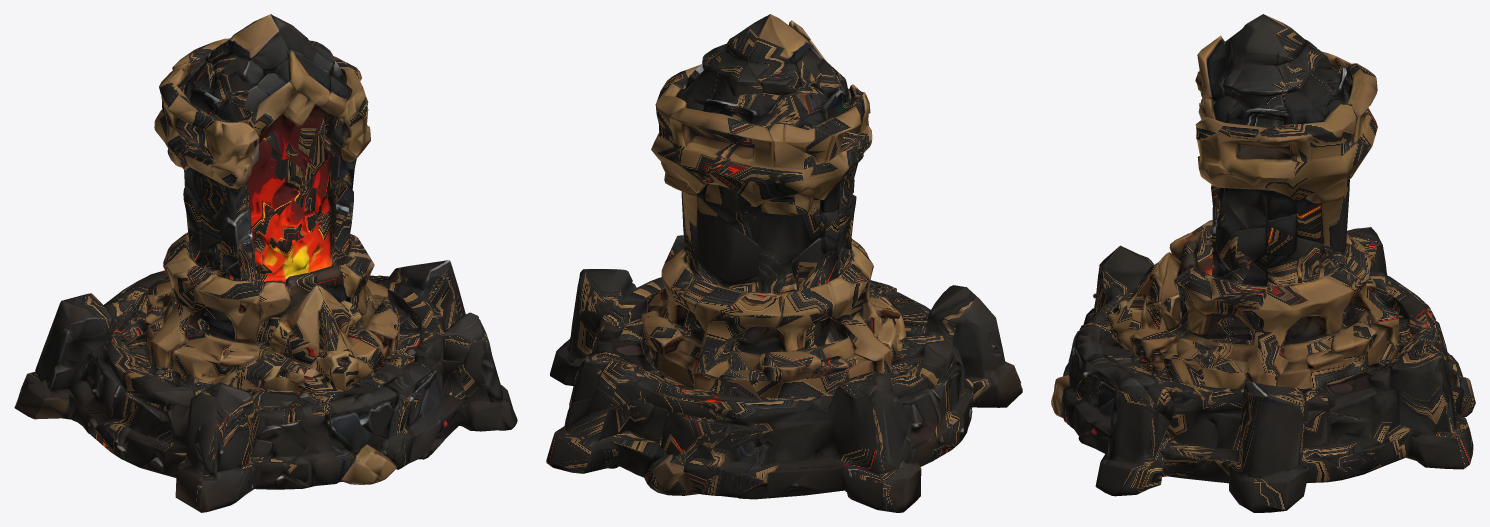
Rendered from nucleo_trevas.glb.
3 renders of one model, left to right at view 1: azimuth 30°, elevation 25°; view 2: azimuth 150°, elevation 25°; view 3: azimuth 270°, elevation 25°, orthographic. The views are drawn at different scales.
Visible parts, largest first — view 1: tripo_node_dc6888ab-76d0-4d9d-9420-f40f242df08d; view 2: tripo_node_dc6888ab-76d0-4d9d-9420-f40f242df08d; view 3: tripo_node_dc6888ab-76d0-4d9d-9420-f40f242df08d.
Boxes of the visible parts, x1,y1,x2,y2 form: tripo_node_dc6888ab-76d0-4d9d-9420-f40f242df08d: (14, 14, 517, 512); tripo_node_dc6888ab-76d0-4d9d-9420-f40f242df08d: (546, 14, 1022, 512); tripo_node_dc6888ab-76d0-4d9d-9420-f40f242df08d: (1051, 14, 1475, 512).
Size of the model in its own units: 0.9791 by 0.9275 by 0.8955.
1 material, 1 textured.
